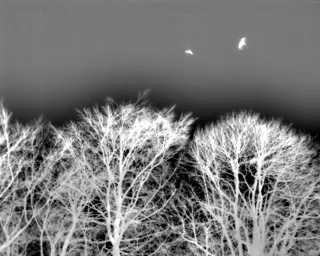BIRD: (183, 47, 195, 58)
